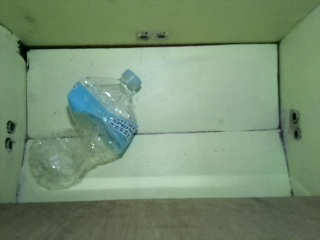damaged-bottle: (27, 68, 145, 190)
